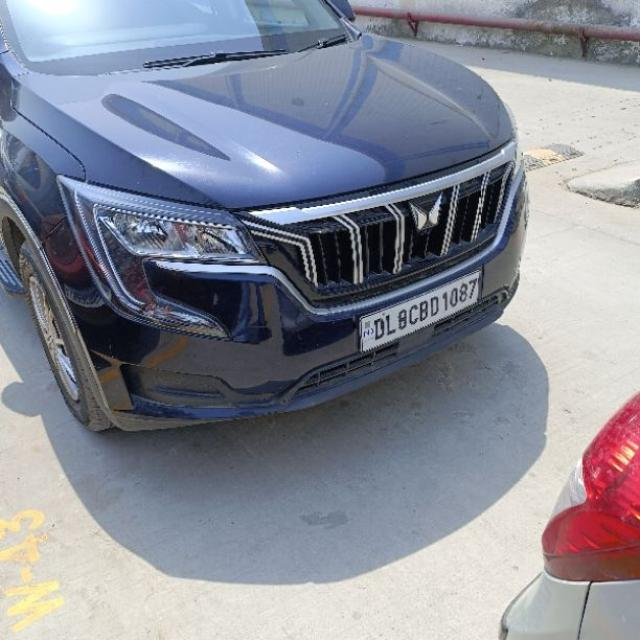license_plate: (357, 264, 482, 354)
